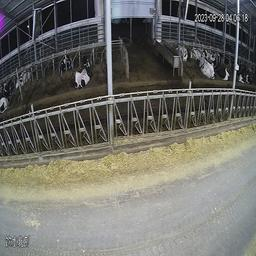cow: (73, 52, 94, 93), (197, 50, 216, 81), (217, 53, 230, 83), (57, 52, 71, 77), (177, 40, 190, 64), (240, 65, 247, 88)
